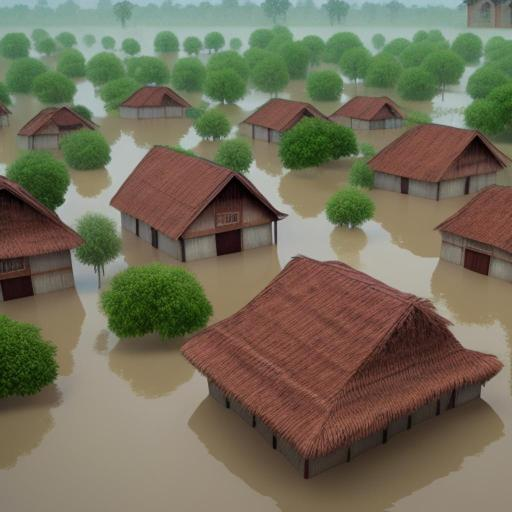flood: (0, 142, 512, 512), (57, 116, 216, 226), (279, 64, 481, 127), (47, 26, 184, 70), (176, 82, 271, 135), (0, 93, 46, 168), (292, 26, 418, 53), (168, 26, 254, 52), (73, 77, 108, 127), (442, 28, 512, 42), (356, 129, 401, 150), (31, 49, 56, 69), (0, 26, 32, 38), (0, 56, 11, 81), (499, 164, 512, 184), (312, 63, 340, 72), (498, 142, 512, 157)
house: (179, 252, 505, 482), (113, 142, 277, 272), (0, 159, 91, 303), (363, 117, 509, 203), (436, 182, 512, 294), (242, 96, 333, 150), (16, 105, 104, 155), (119, 83, 191, 123), (332, 94, 398, 132)
